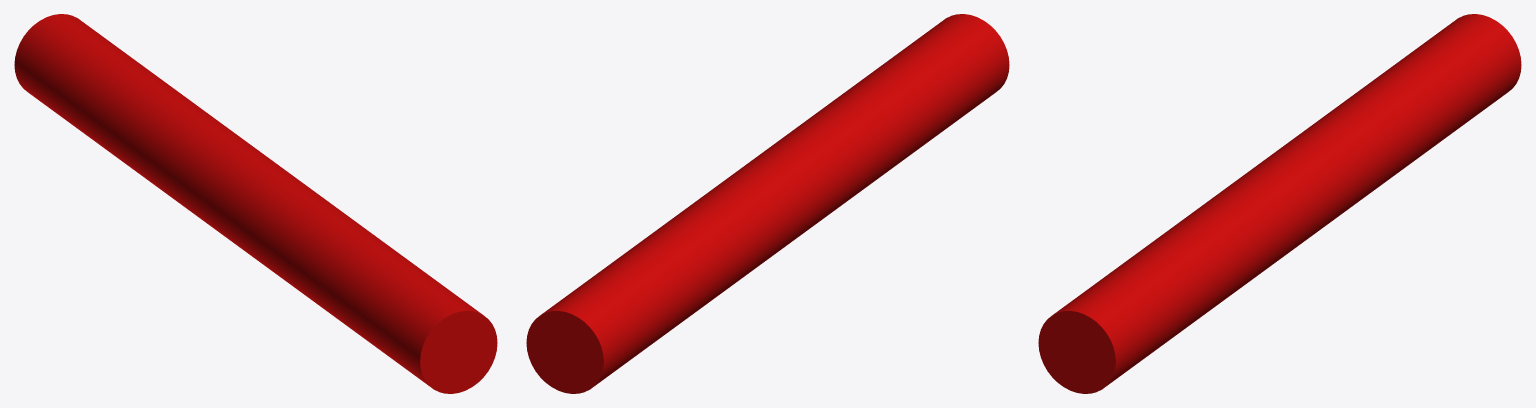
Rendered from Bullet rood.fbx.
The picture shows the model from 3 angles, left to right: view 1: azimuth 30°, elevation 25°; view 2: azimuth 150°, elevation 25°; view 3: azimuth 330°, elevation 25°; orthographic projection.
Visible parts, largest first — view 1: Cylinder; view 2: Cylinder; view 3: Cylinder.
Part boxes in pixels (<box>): Cylinder: <box>14,14,497,393</box>; Cylinder: <box>526,14,1009,393</box>; Cylinder: <box>1038,14,1521,393</box>.
Bounding box in the file's own units: 14 × 14 × 127.
